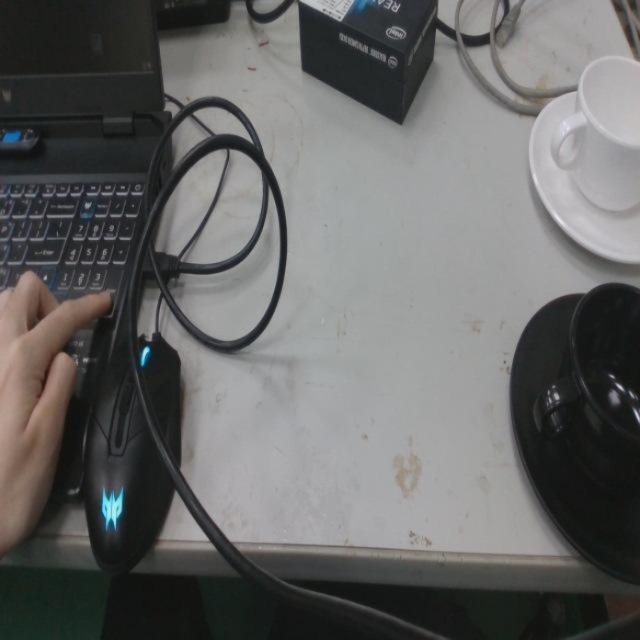black: (506, 278, 640, 596)
white: (526, 51, 640, 270)
